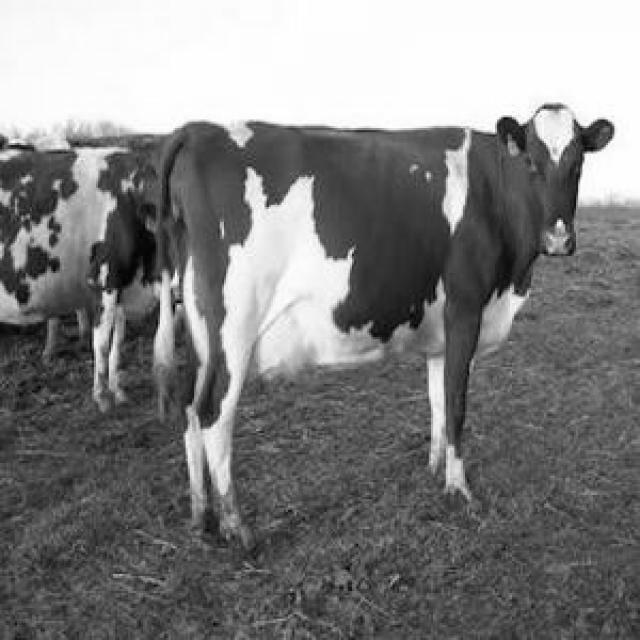cow: (155, 105, 614, 547), (0, 144, 161, 411)
